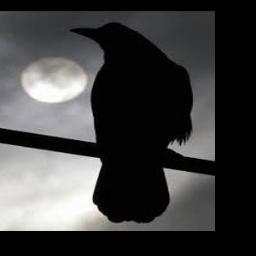Crow: (67, 21, 194, 224)
